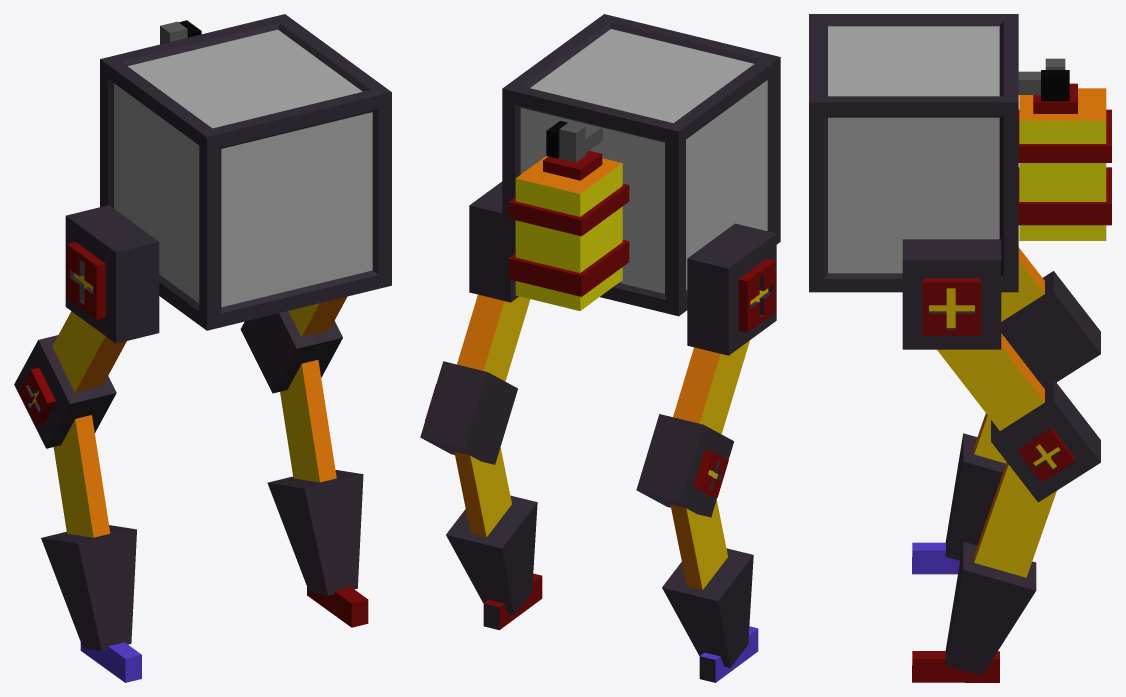
The model's file is FishJointTestExport.fbx.
3 renders of one model, left to right at view 1: azimuth 30°, elevation 25°; view 2: azimuth 150°, elevation 25°; view 3: azimuth 270°, elevation 25°, orthographic. The views are drawn at different scales.
Visible parts, largest first — view 1: FishColored_BestPivots:FishColored_1:FishGame_2:pCube45, FishColored_BestPivots:polySurface18, FishColored_BestPivots:polySurface20, FishColored_BestPivots:polySurface10, FishColored_BestPivots:polySurface19, FishColored_BestPivots:polySurface17, FishColored_BestPivots:polySurface14; view 2: FishColored_BestPivots:FishColored_1:FishGame_2:pCube45, FishColored_BestPivots:polySurface18, FishColored_BestPivots:polySurface20, FishColored_BestPivots:polySurface10, FishColored_BestPivots:polySurface14, FishColored_BestPivots:polySurface17, FishColored_BestPivots:polySurface19; view 3: FishColored_BestPivots:FishColored_1:FishGame_2:pCube45, FishColored_BestPivots:polySurface20, FishColored_BestPivots:polySurface14, FishColored_BestPivots:polySurface18, FishColored_BestPivots:polySurface19, FishColored_BestPivots:polySurface10, FishColored_BestPivots:polySurface17.
Part boxes in pixels (left/top/right/bottom): FishColored_BestPivots:FishColored_1:FishGame_2:pCube45: left=100, top=14, right=391, bottom=330; FishColored_BestPivots:polySurface18: left=14, top=335, right=136, bottom=650; FishColored_BestPivots:polySurface20: left=240, top=311, right=363, bottom=595; FishColored_BestPivots:polySurface10: left=52, top=205, right=159, bottom=392; FishColored_BestPivots:polySurface19: left=307, top=587, right=368, bottom=627; FishColored_BestPivots:polySurface17: left=80, top=642, right=141, bottom=682; FishColored_BestPivots:polySurface14: left=288, top=296, right=346, bottom=337; FishColored_BestPivots:FishColored_1:FishGame_2:pCube45: left=502, top=14, right=780, bottom=316; FishColored_BestPivots:polySurface18: left=636, top=414, right=753, bottom=667; FishColored_BestPivots:polySurface20: left=420, top=361, right=537, bottom=614; FishColored_BestPivots:polySurface10: left=673, top=223, right=776, bottom=434; FishColored_BestPivots:polySurface14: left=457, top=181, right=530, bottom=381; FishColored_BestPivots:polySurface17: left=699, top=626, right=758, bottom=682; FishColored_BestPivots:polySurface19: left=483, top=573, right=542, bottom=629; FishColored_BestPivots:FishColored_1:FishGame_2:pCube45: left=809, top=14, right=1111, bottom=292; FishColored_BestPivots:polySurface20: left=945, top=379, right=1100, bottom=675; FishColored_BestPivots:polySurface14: left=902, top=239, right=1044, bottom=430; FishColored_BestPivots:polySurface18: left=945, top=271, right=1100, bottom=560; FishColored_BestPivots:polySurface19: left=912, top=651, right=999, bottom=682; FishColored_BestPivots:polySurface10: left=1001, top=247, right=1044, bottom=321; FishColored_BestPivots:polySurface17: left=912, top=542, right=959, bottom=574.
Size of the model in its own units: 24.81 by 47.21 by 22.87.
